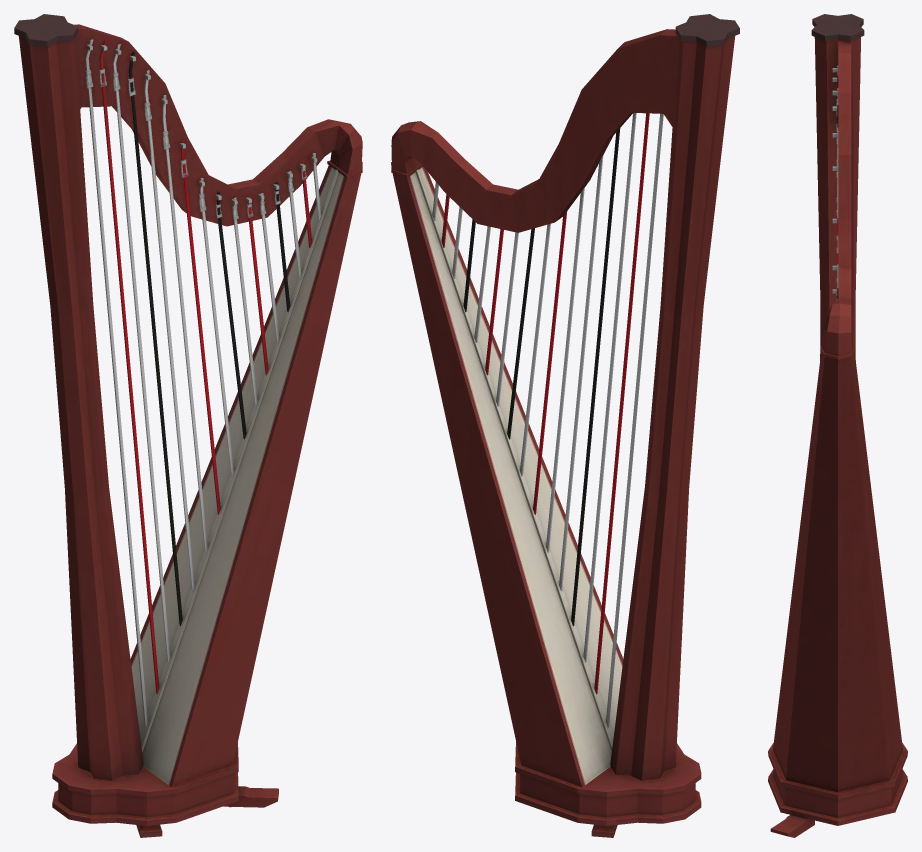
File: 102E7hcxEPT.glb
The picture shows the model from 3 angles, left to right: view 1: azimuth 30°, elevation 25°; view 2: azimuth 150°, elevation 25°; view 3: azimuth 270°, elevation 25°; orthographic projection. The views are drawn at different scales.
Visible parts, largest first — view 1: Harp_mesh; view 2: Harp_mesh; view 3: Harp_mesh.
Boxes of the visible parts, left/top/right/bottom form: Harp_mesh: left=14, top=14, right=362, bottom=837; Harp_mesh: left=391, top=14, right=739, bottom=837; Harp_mesh: left=768, top=14, right=907, bottom=837.
Bounding box in the file's own units: 0.4444 × 1 × 0.1738.
1 material, 1 textured.
